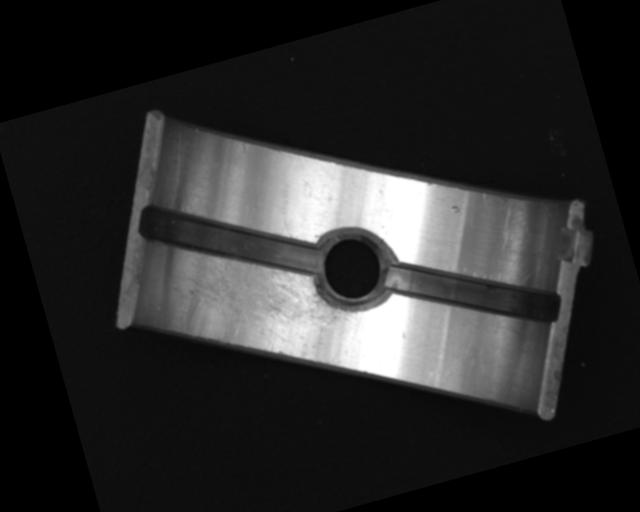bruise: (448, 203, 462, 215)
gap: (137, 166, 321, 312), (382, 225, 563, 361)
hole: (307, 220, 399, 319)
nick: (490, 199, 525, 251)
scratch: (172, 217, 362, 394)
